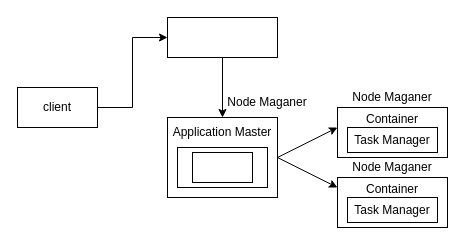
Image size: 465x245. Some labels were removed from this diagram. The shapes that lost their labels are listed below. From the top down, each one's centre as x and y in pixels, then its label:
At (x=222, y=37): "Resource M ana ger".
At (x=222, y=167): "Job manager".
